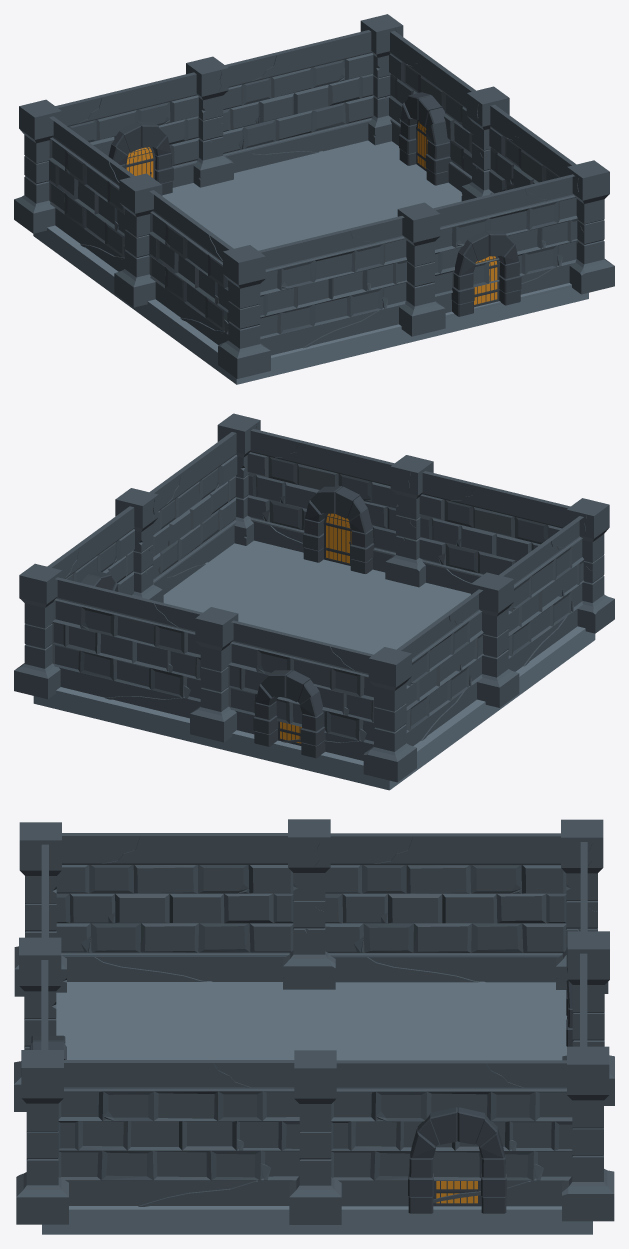
File: Room3C.obj
3 views of the same model, one above another, from view 1: azimuth 30°, elevation 25°; view 2: azimuth 150°, elevation 25°; view 3: azimuth 270°, elevation 25° (orthographic). The views are drawn at different scales.
Visible parts, largest first — view 1: Pillar+Wall.011, Pillar+Wall.008, Cube.247, Pillar+Wall.009, Pillar+Wall.010, Arch.006, Arch.008, Arch.007, door.003, door.007; view 2: Pillar+Wall.008, Pillar+Wall.011, Cube.247, Pillar+Wall.009, Pillar+Wall.010, Arch.007, Arch.006, door.003; view 3: Pillar+Wall.009, Pillar+Wall.010, Cube.247, Pillar+Wall.008, Pillar+Wall.011, Arch.008, door.008.
Boxes of the visible parts, x1,y1,x2,y2 form: Pillar+Wall.011: (218, 174, 577, 378); Pillar+Wall.008: (55, 14, 403, 187); Cube.247: (33, 140, 588, 384); Pillar+Wall.009: (14, 99, 233, 345); Pillar+Wall.010: (389, 31, 614, 294); Arch.006: (451, 230, 521, 316); Arch.008: (399, 92, 451, 185); Arch.007: (108, 121, 173, 195); door.003: (474, 256, 499, 307); door.007: (125, 147, 155, 179); Pillar+Wall.008: (14, 563, 374, 760); Pillar+Wall.011: (247, 429, 614, 633); Cube.247: (33, 540, 595, 790); Pillar+Wall.009: (363, 516, 584, 782); Pillar+Wall.010: (47, 413, 260, 602); Arch.007: (253, 670, 325, 758); Arch.006: (303, 486, 374, 573); door.003: (323, 513, 351, 565); Pillar+Wall.009: (56, 819, 608, 993); Pillar+Wall.010: (16, 1050, 572, 1224); Cube.247: (42, 981, 592, 1234); Pillar+Wall.008: (562, 842, 614, 1221); Pillar+Wall.011: (14, 822, 66, 1111); Arch.008: (408, 1107, 506, 1213); door.008: (433, 1180, 481, 1206).
Size of the model in its own units: 10.88 by 3.51 by 10.91.
1 material, 1 textured.
